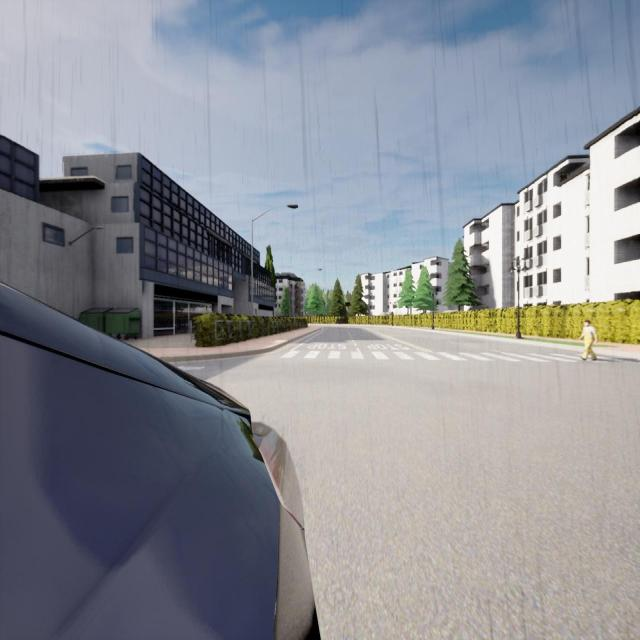Pedestrian: (579, 319, 597, 361)
Vehicle: (0, 284, 319, 638)
